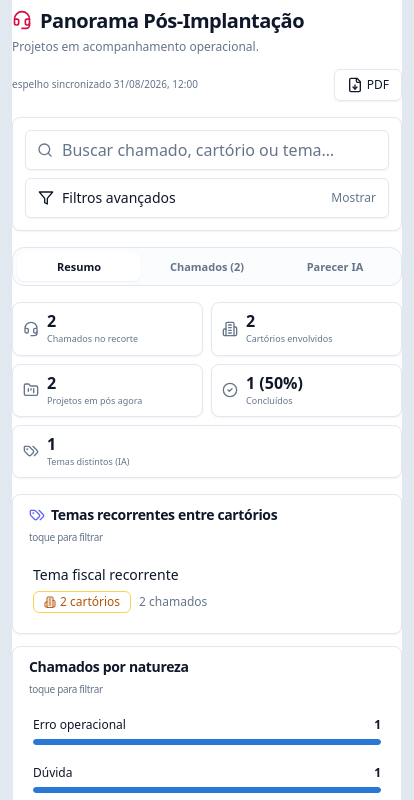
Test case: Panorama pós-implantação no mobile › mantém a busca visível e recolhe os filtros avançados
Click the button "Filtros avançados Mostrar". click: (119, 197)
box: top-left (25, 178), bottom-right (389, 218)
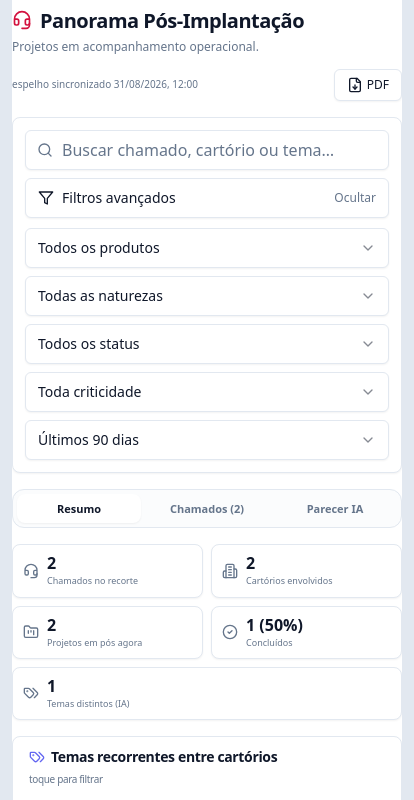
Expected: the button "Filtros avançados Ocultar" is expanded, top-left (25, 178), bottom-right (389, 218)
